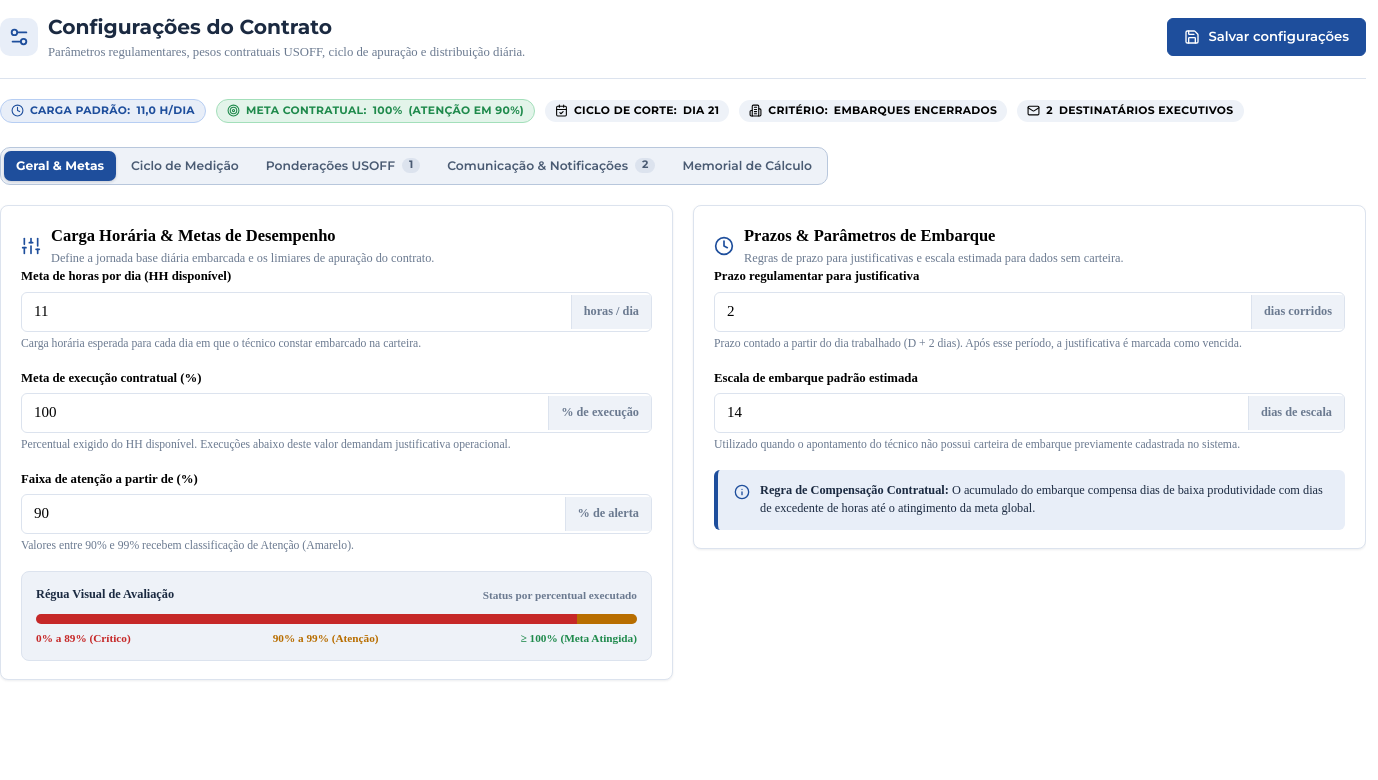
Test: ConfiguracoesView (Central de Parametrização Contratual) › 4. Permite gerenciar e-mails via chips (adicionar e remover)
Click the tab "Comunicação & Notificações 2".
click(551, 166)  # box [435,151,667,181]
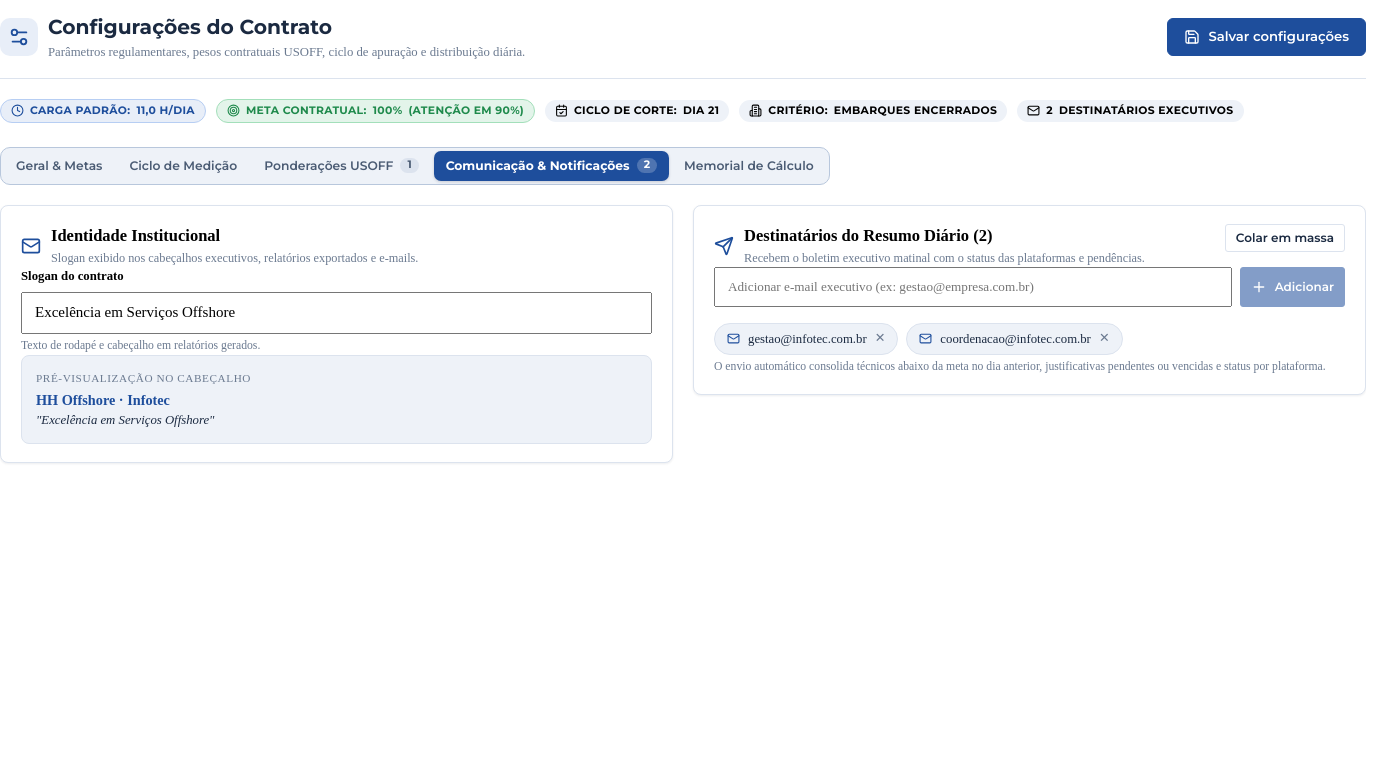
Now the text "gestao@infotec.com.br" is shown, box [748,330,867,348]
Now the text "coordenacao@infotec.com.br" is shown, box [940,330,1091,348]
Note: Adiciona novo e-mail
Type "diretoria@infotec.com.br" into the field with placeholder "Adicionar e-mail executivo (ex: gestao@empresa.com.br)".
click(973, 287); type("diretoria@infotec.com.br")  # box [714,268,1232,307]
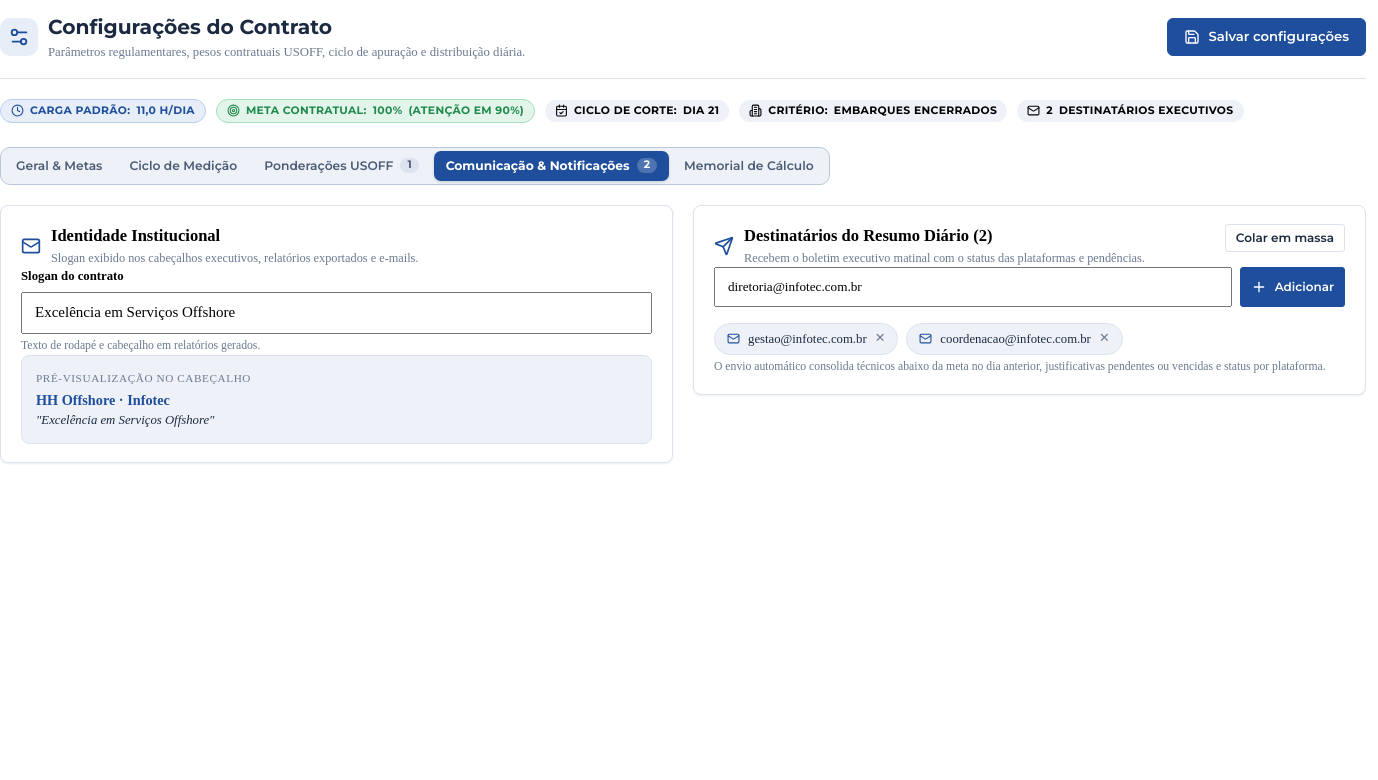
Click the button "Adicionar".
click(1292, 287)  # box [1240,268,1345,307]
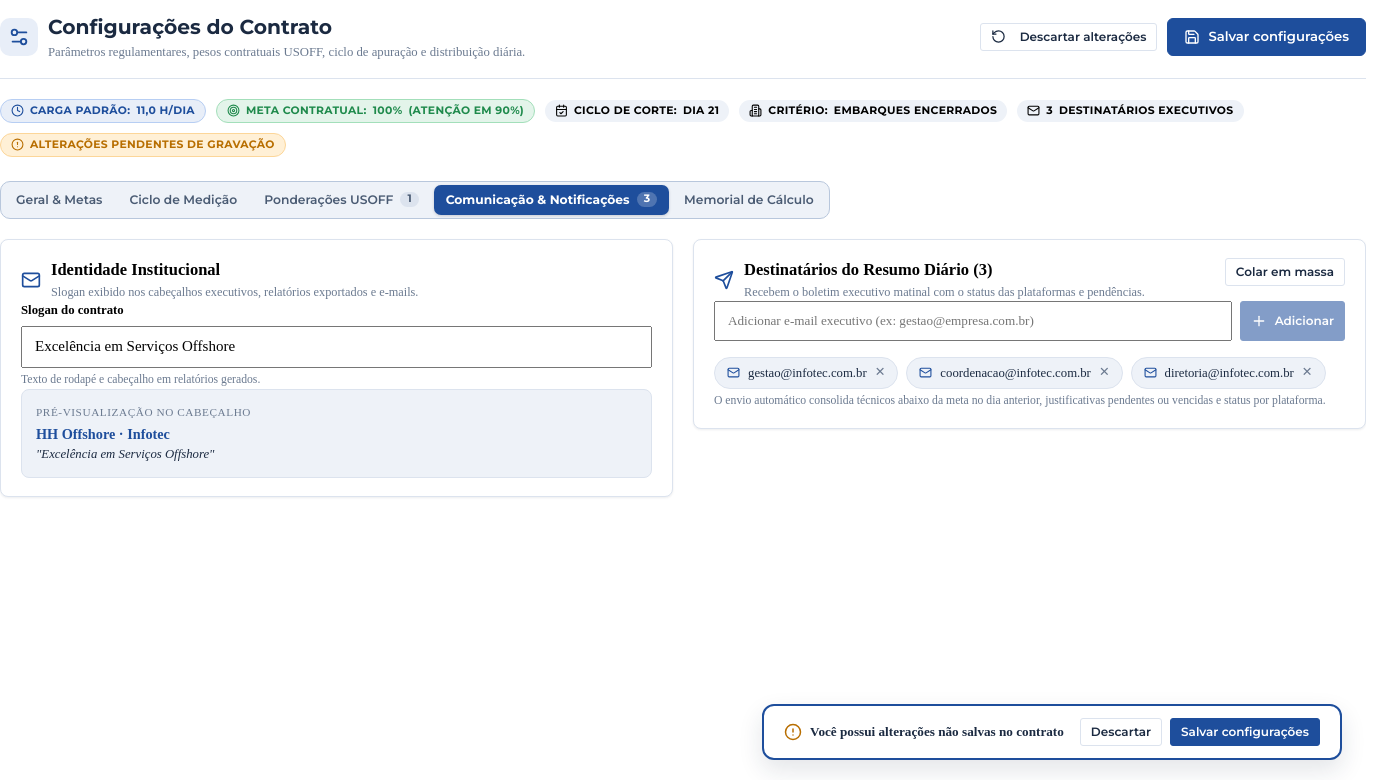
Now the text "diretoria@infotec.com.br" is shown, box [1165,364,1294,382]
Now the text "Você possui alterações não salvas no contrato" is shown, box [810,722,1064,742]
Note: Remove o e-mail adicionado
Click the button titled "Remover diretoria@infotec.com.br" next to "diretoria@infotec.com.br".
click(1307, 373)  # box [1302,366,1312,379]
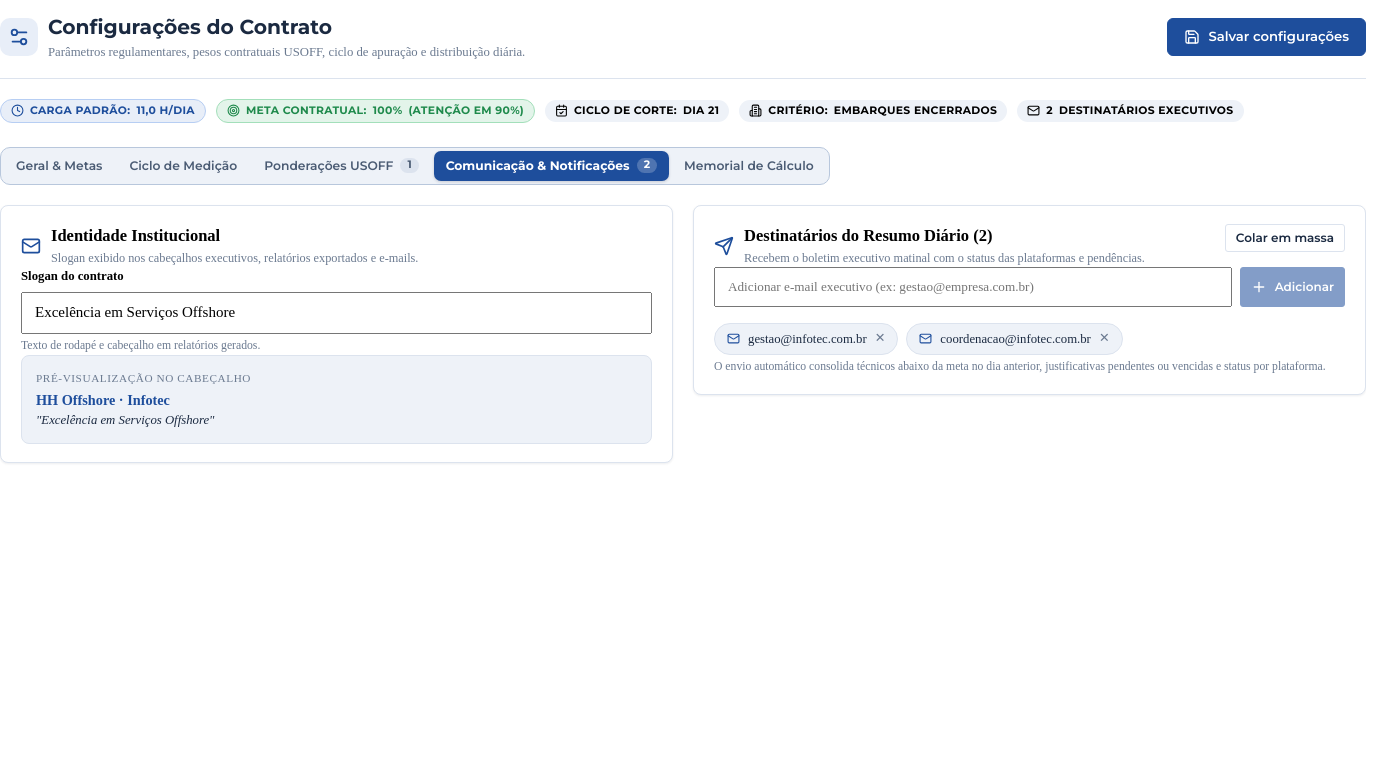
Now the text "diretoria@infotec.com.br" is gone
